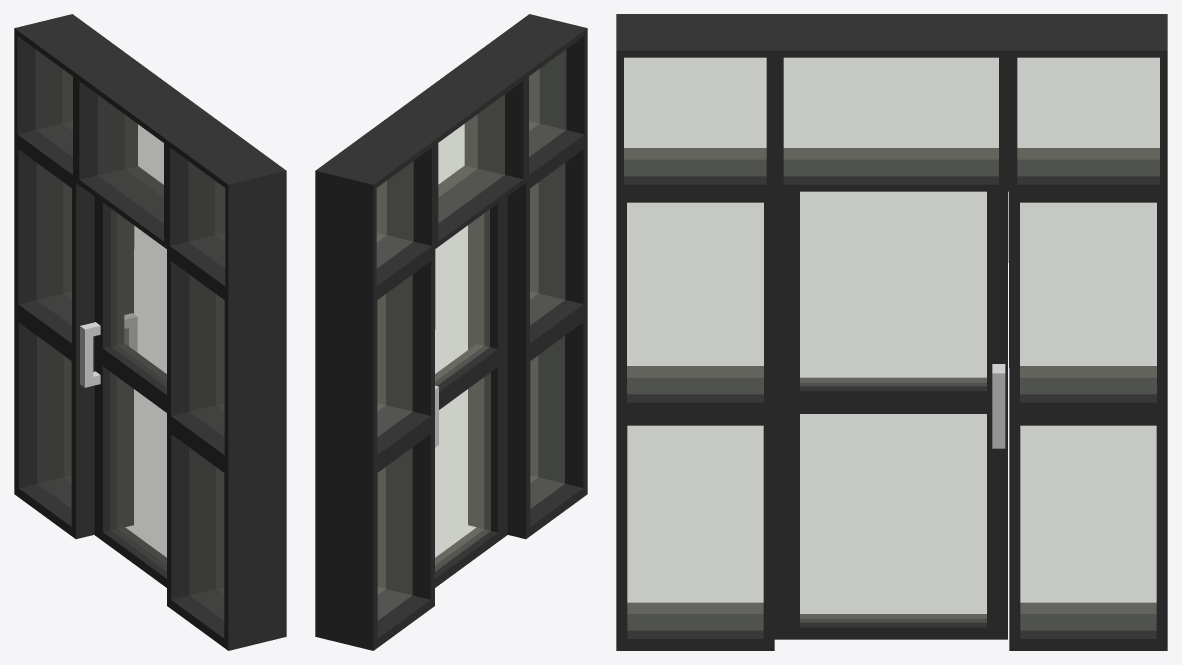
Rendered from S.ExitDoor.fbx.
3 views of the same model, side by side, from view 1: azimuth 30°, elevation 25°; view 2: azimuth 150°, elevation 25°; view 3: azimuth 270°, elevation 25° (orthographic). The views are drawn at different scales.
Visible parts, largest first — view 1: Door; view 2: Door; view 3: Door.
Part boxes in pixels (x1,y1,x2,y2): Door: [14, 14, 286, 650]; Door: [315, 14, 587, 650]; Door: [616, 14, 1167, 650].
Size of the model in its own units: 109 by 838 by 697.
